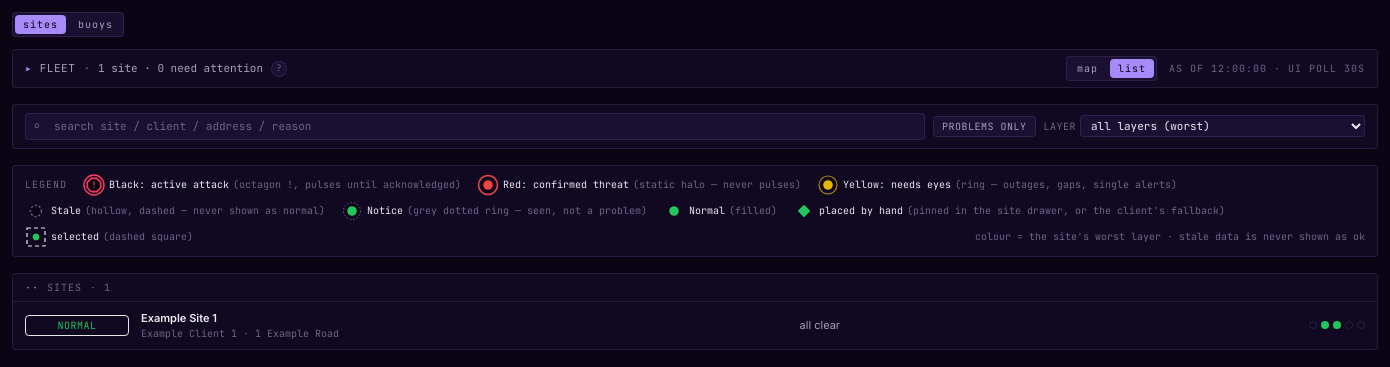
Test: FleetPage — sites mode › the buoys mode is the unchanged buoy fleet (operators; saved when picked)
Click the button "buoys".
click(96, 24)  # box x1=70 y1=15 x2=121 y2=34
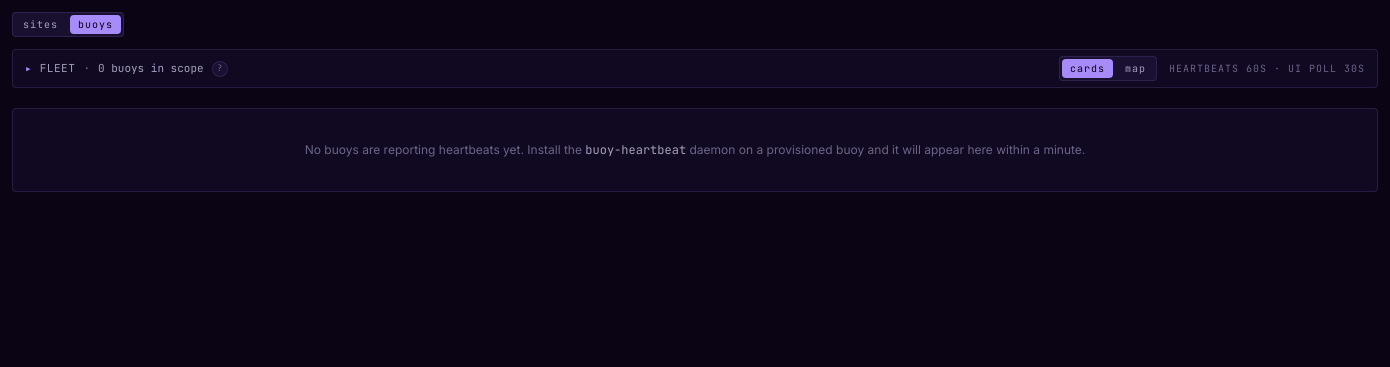
Result: the text "No buoys are reporting heartbeats yet" is shown at x1=305 y1=142 x2=582 y2=157
